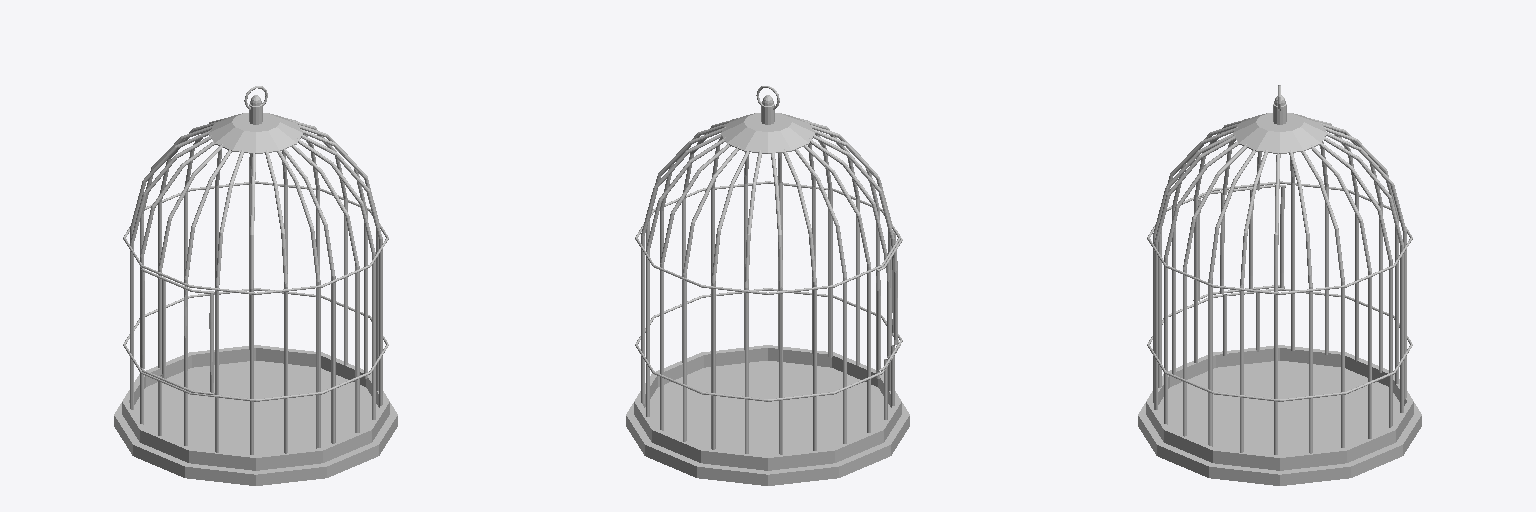
Rendered from bird_cage.obj.
3 views of the same model, side by side, from view 1: azimuth 30°, elevation 25°; view 2: azimuth 150°, elevation 25°; view 3: azimuth 270°, elevation 25° (orthographic).
Visible parts, largest first — view 1: Cage_Grp Cage_Rig lower_cage, lower Cage_Grp Cage_Rig, Cage_Grp Cage_Rig upper, Cage_Grp Cage_Rig Spikes7, Cage_Grp Cage_Rig Spikes29, Cage_Grp Cage_Rig Spikes8, Cage_Grp Cage_Rig Spikes31, Cage_Grp Cage_Rig Spikes32, Cage_Grp Cage_Rig Spikes26, Cage_Grp Cage_Rig Spikes9, Cage_Grp Cage_Rig Spikes27, Cage_Grp Cage_Rig Spikes28 (+10 smaller); view 2: Cage_Grp Cage_Rig lower_cage, lower Cage_Grp Cage_Rig, Cage_Grp Cage_Rig upper, Cage_Grp Cage_Rig Spikes18, Cage_Grp Cage_Rig Spikes31, Cage_Grp Cage_Rig Spikes32, Cage_Grp Cage_Rig Spikes17, Cage_Grp Cage_Rig Spikes22, Cage_Grp Cage_Rig Spikes16, Cage_Grp Cage_Rig Spikes23, Cage_Grp Cage_Rig Spikes21, Cage_Grp Cage_Rig Spikes19 (+10 smaller); view 3: Cage_Grp Cage_Rig lower_cage, lower Cage_Grp Cage_Rig, Cage_Grp Cage_Rig upper, Cage_Grp Cage_Rig Spikes10, Cage_Grp Cage_Rig Spikes31, Cage_Grp Cage_Rig Spikes32, Cage_Grp Cage_Rig Spikes9, Cage_Grp Cage_Rig Spikes15, Cage_Grp Cage_Rig Spikes16, Cage_Grp Cage_Rig Spikes14, Cage_Grp Cage_Rig Spikes12, Cage_Grp Cage_Rig Spikes8 (+14 smaller).
Part boxes in pixels (x1,y1,x2,y2): Cage_Grp Cage_Rig lower_cage: (114,361,397,485); lower Cage_Grp Cage_Rig: (122,345,389,470); Cage_Grp Cage_Rig upper: (209,95,302,153); Cage_Grp Cage_Rig Spikes7: (282,147,335,443); Cage_Grp Cage_Rig Spikes29: (277,151,320,448); Cage_Grp Cage_Rig Spikes8: (292,145,359,432); Cage_Grp Cage_Rig Spikes31: (123,181,388,294); Cage_Grp Cage_Rig Spikes32: (123,288,388,401); Cage_Grp Cage_Rig Spikes26: (215,150,243,452); Cage_Grp Cage_Rig Spikes9: (297,138,375,419); Cage_Grp Cage_Rig Spikes27: (250,153,255,454); Cage_Grp Cage_Rig Spikes28: (265,150,287,453); Cage_Grp Cage_Rig lower_cage: (626,361,909,485); lower Cage_Grp Cage_Rig: (634,345,901,470); Cage_Grp Cage_Rig upper: (721,95,814,153); Cage_Grp Cage_Rig Spikes18: (711,151,749,449); Cage_Grp Cage_Rig Spikes31: (635,181,900,294); Cage_Grp Cage_Rig Spikes32: (635,288,900,401); Cage_Grp Cage_Rig Spikes17: (683,146,738,441); Cage_Grp Cage_Rig Spikes22: (794,147,846,443); Cage_Grp Cage_Rig Spikes16: (660,144,730,430); Cage_Grp Cage_Rig Spikes23: (804,145,870,432); Cage_Grp Cage_Rig Spikes21: (783,149,816,450); Cage_Grp Cage_Rig Spikes19: (745,150,761,453); Cage_Grp Cage_Rig lower_cage: (1138,361,1421,485); lower Cage_Grp Cage_Rig: (1146,345,1413,470); Cage_Grp Cage_Rig upper: (1233,95,1326,153); Cage_Grp Cage_Rig Spikes10: (1208,150,1255,446); Cage_Grp Cage_Rig Spikes31: (1147,181,1412,294); Cage_Grp Cage_Rig Spikes32: (1147,288,1412,401); Cage_Grp Cage_Rig Spikes9: (1183,144,1246,436); Cage_Grp Cage_Rig Spikes15: (1311,145,1371,438); Cage_Grp Cage_Rig Spikes16: (1319,143,1392,427); Cage_Grp Cage_Rig Spikes14: (1301,151,1344,447); Cage_Grp Cage_Rig Spikes12: (1274,153,1280,454); Cage_Grp Cage_Rig Spikes8: (1164,141,1238,424).
Bounding box in the file's own units: 1.16 × 1.53 × 1.16.